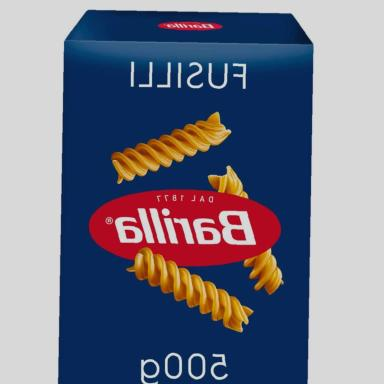pasta package: (59, 11, 312, 383)
